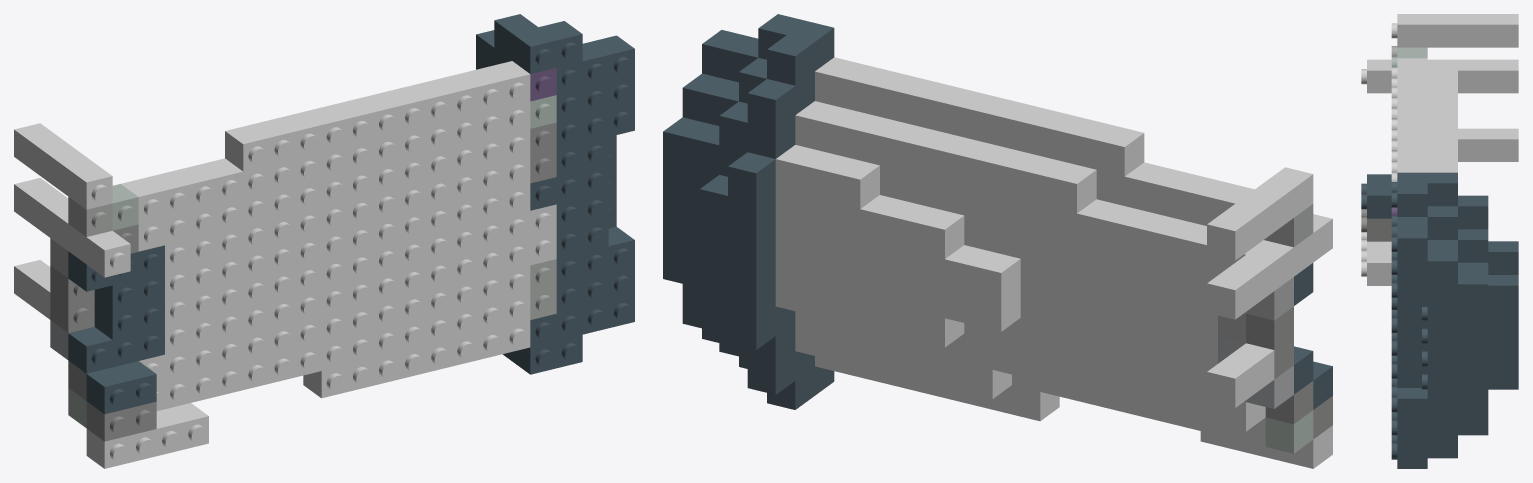
File: full.glb
The picture shows the model from 3 angles, left to right: view 1: azimuth 30°, elevation 25°; view 2: azimuth 150°, elevation 25°; view 3: azimuth 270°, elevation 25°; orthographic projection. The views are drawn at different scales.
Parts seen in each view (by area): view 1: world; view 2: world; view 3: world.
Boxes of the visible parts, x1,y1,x2,y2 form: world: [14, 14, 634, 468]; world: [663, 14, 1332, 468]; world: [1361, 14, 1518, 468].
Size of the model in its own units: 168 by 96 by 49.8.
